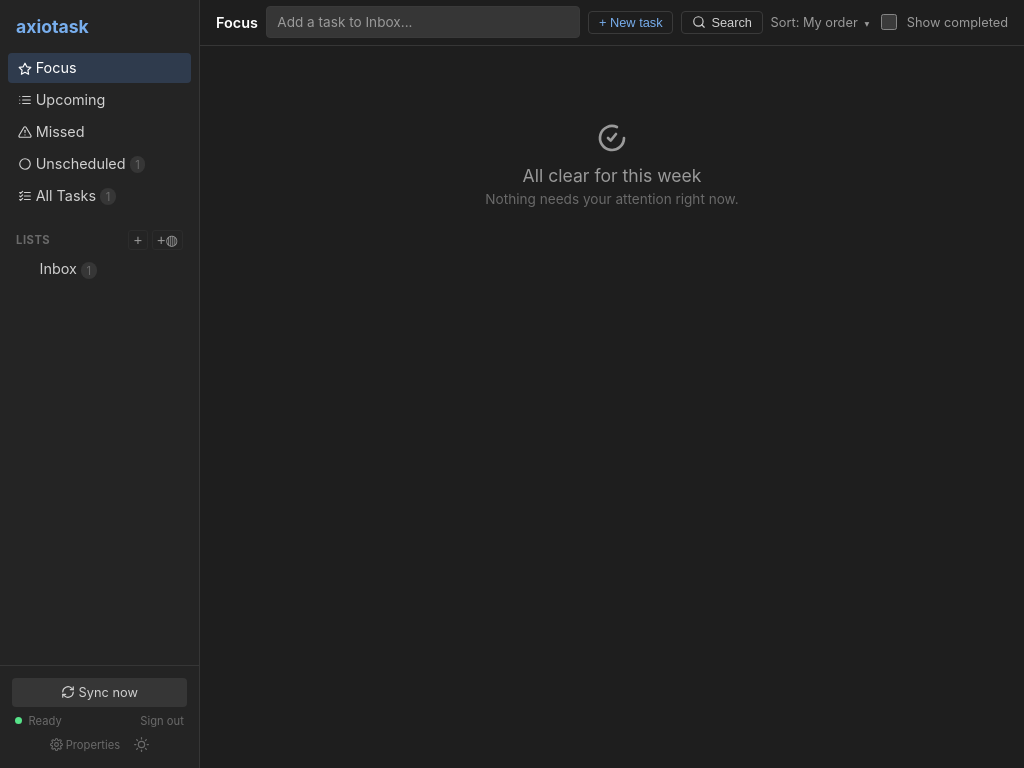
it: GH#33/GH#62: Backend-owned auto-sync on startup › app loads cached data immediately without waiting for sync
The image size is (1024, 768).
// Navigate to Inbox
What coordinates should you click on to do the following:
click the button "Inbox 1"
I would click on:
 (110, 269)
Its box is [30,254,191,284].
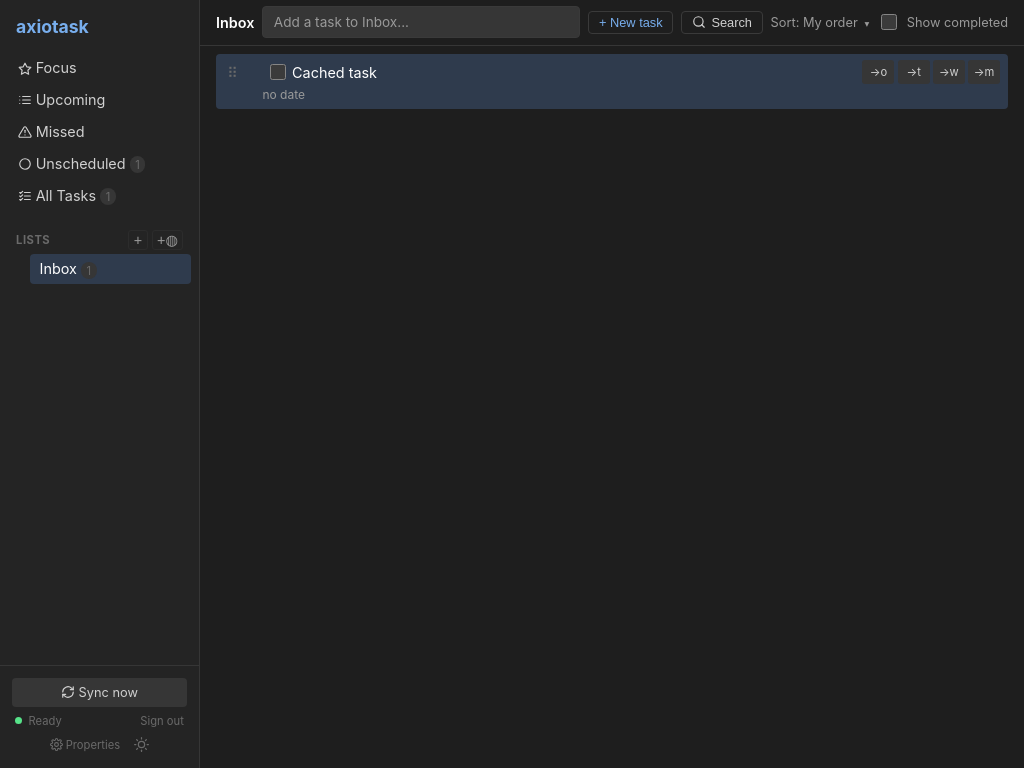
Expected: the text "Cached task" is shown, [292,64,377,81]
